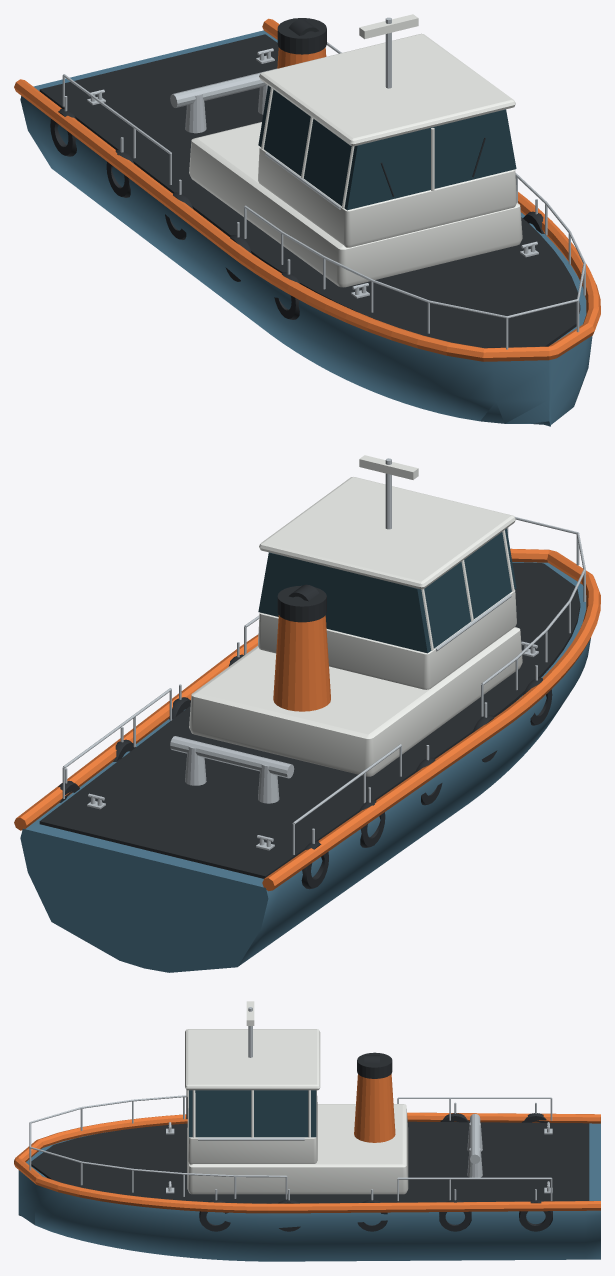
Rendered from transport-collection-hd-harbour-tug-0a979a99__18728.glb.
3 renders of one model, top to bottom at view 1: azimuth 30°, elevation 25°; view 2: azimuth 150°, elevation 25°; view 3: azimuth 270°, elevation 25°, orthographic. The views are drawn at different scales.
Parts seen in each view (by area): view 1: harbour-tug; view 2: harbour-tug; view 3: harbour-tug.
Part boxes in pixels (bbox=[...]): harbour-tug: bbox=[14, 14, 600, 426]; harbour-tug: bbox=[14, 455, 600, 972]; harbour-tug: bbox=[14, 1001, 600, 1261].
Bounding box in the file's own units: 4.4 × 5.01 × 11.29.
